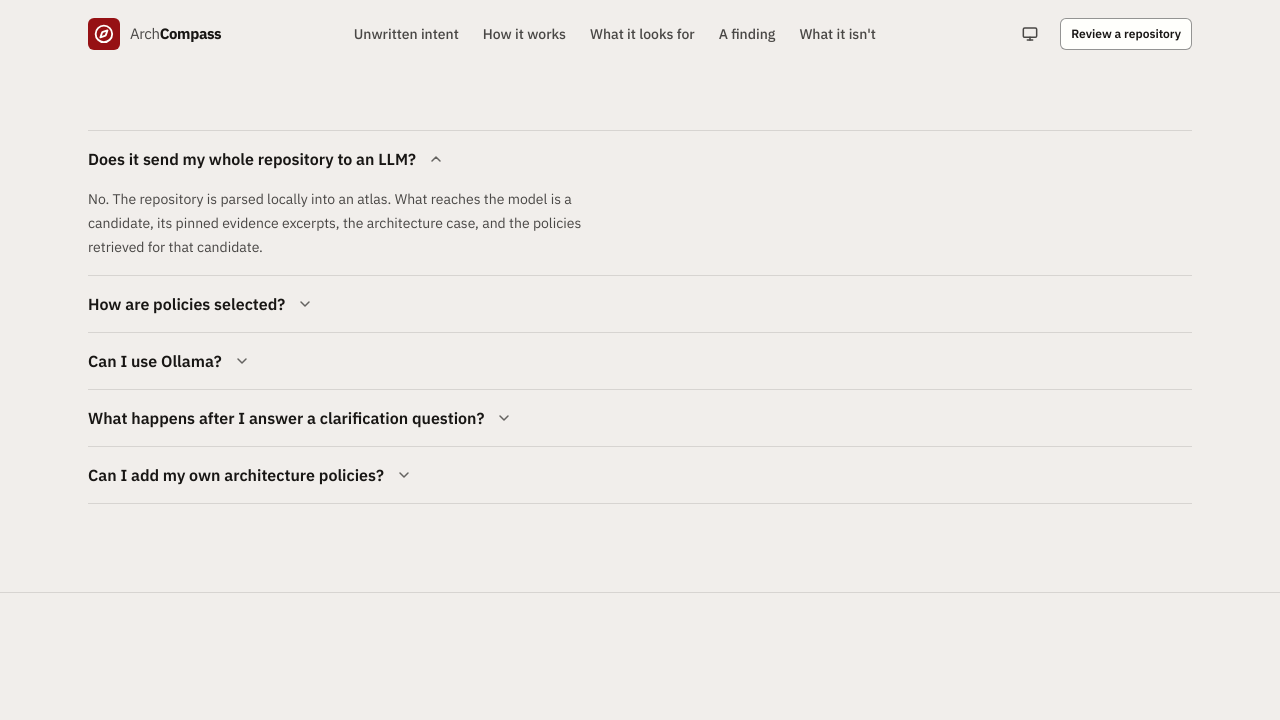
Scenario: the landing page › expands one FAQ answer at a time
(page scrolled)
Click the button "Can I use Ollama?".
click(155, 361)  # box [88,333,1192,389]
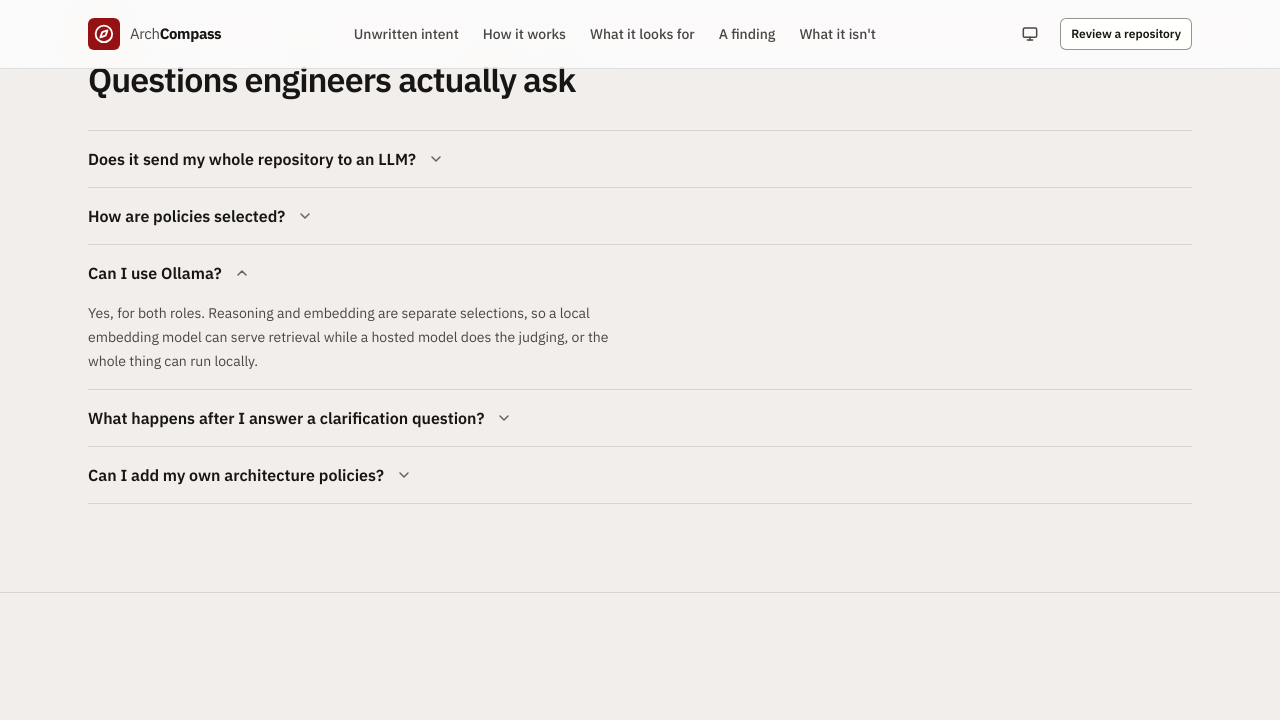
expect the button "Can I use Ollama?" is expanded: met, box [88,245,1192,301]
expect the button "Does it send my whole repository to an LLM?" is collapsed: met, box [88,131,1192,187]
